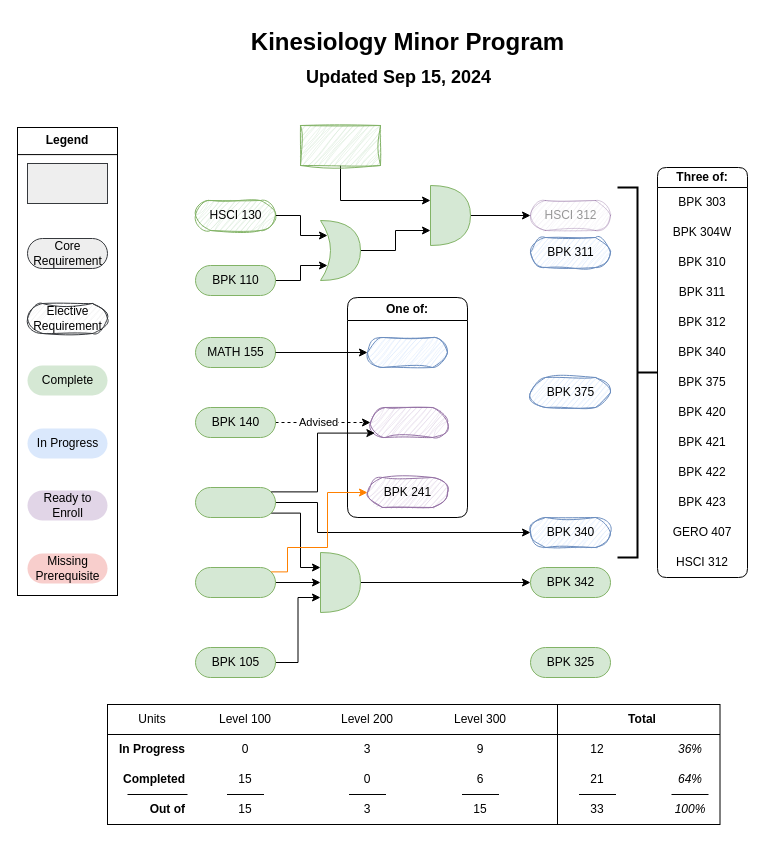
Image size: 765x843. Some labels were removed from this diagram. Each missing label, with the centre of its shape:
60 Units Complete: the point at 340,145
BPK 142: the point at 235,502
BPK 143: the point at 235,582
BPK 201: the point at 407,352
BPK 207: the point at 409,422
Non-Course Requirement: the point at 67,183
